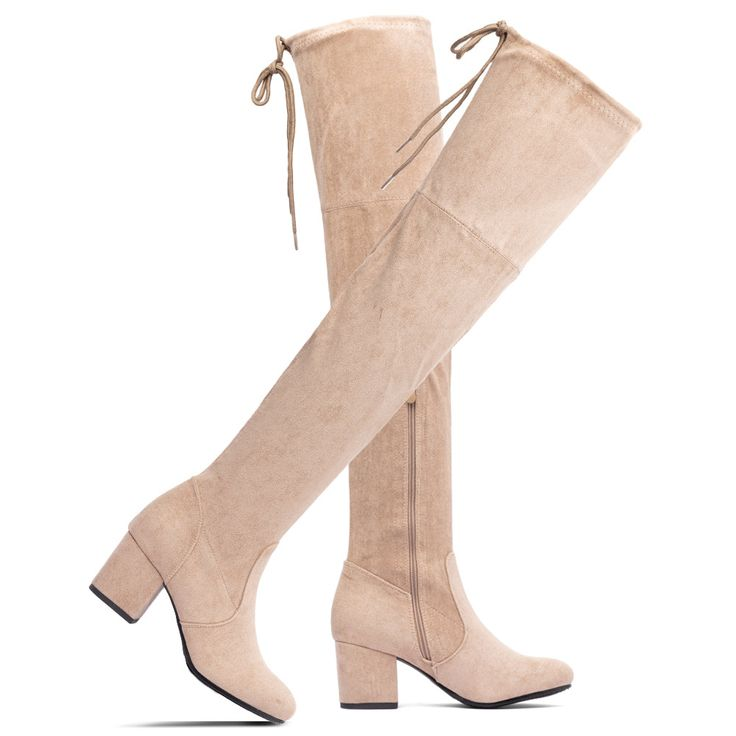gamuza: (91, 15, 643, 721)
